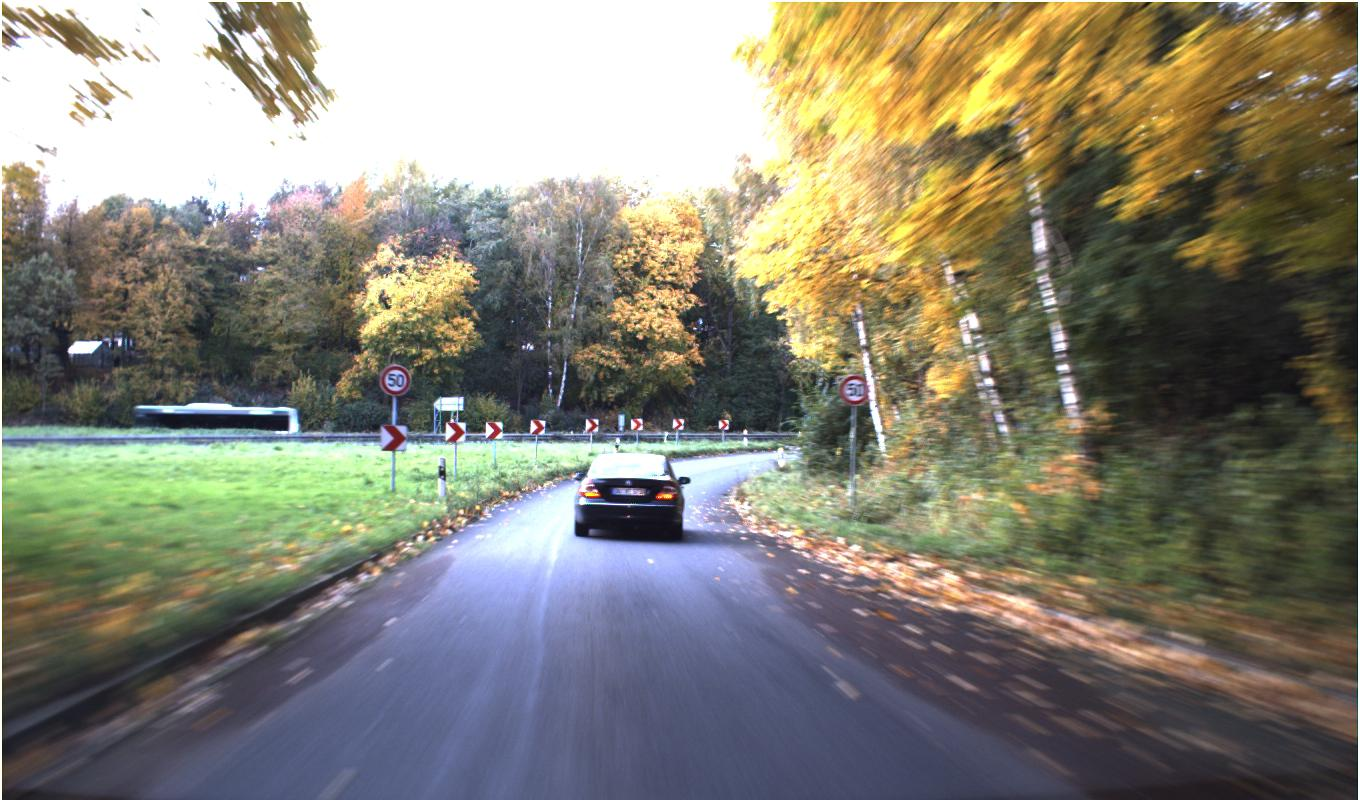prohibitory: (379, 365, 411, 396), (840, 374, 868, 404)
